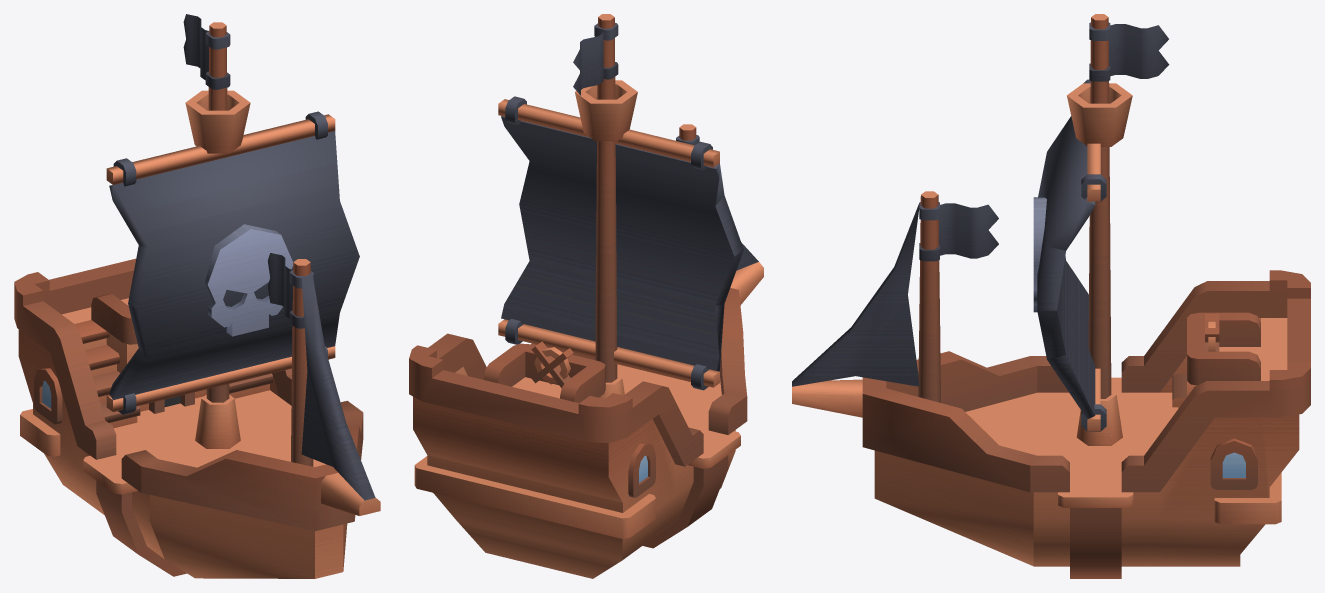
File: ship-pirate-small.glb
3 renders of one model, left to right at view 1: azimuth 30°, elevation 25°; view 2: azimuth 150°, elevation 25°; view 3: azimuth 270°, elevation 25°, orthographic. The views are drawn at different scales.
Parts seen in each view (by area): view 1: ship-pirate-small, sail-a, flag-b, flag-a; view 2: ship-pirate-small, sail-a, flag-b; view 3: ship-pirate-small, sail-a, flag-a, flag-b.
Boxes of the visible parts, x1,y1,x2,y2 form: ship-pirate-small: (14,22,380,578); sail-a: (106,111,359,414); flag-b: (183,14,230,89); flag-a: (267,253,314,328); ship-pirate-small: (409,14,763,578); sail-a: (498,96,743,390); flag-b: (573,23,618,95); ship-pirate-small: (792,14,1310,578); sail-a: (1033,79,1106,431); flag-a: (919,202,998,261); flag-b: (1089,22,1169,81).
Size of the model in its own units: 4.8 by 9.96 by 8.8.
1 material, 1 textured.
